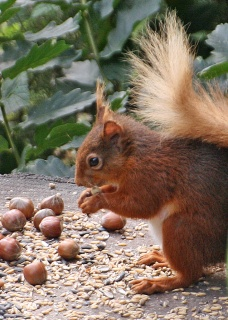Squirrel: (72, 8, 228, 294)
